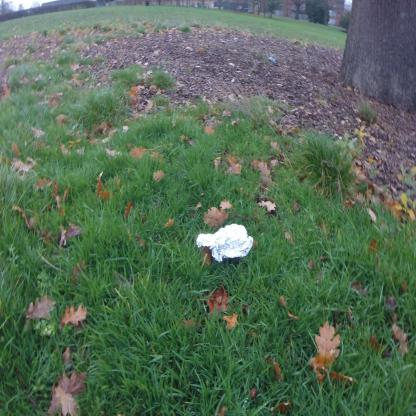metal: (195, 223, 253, 264)
